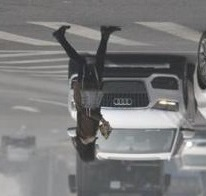person: (52, 24, 123, 163)
